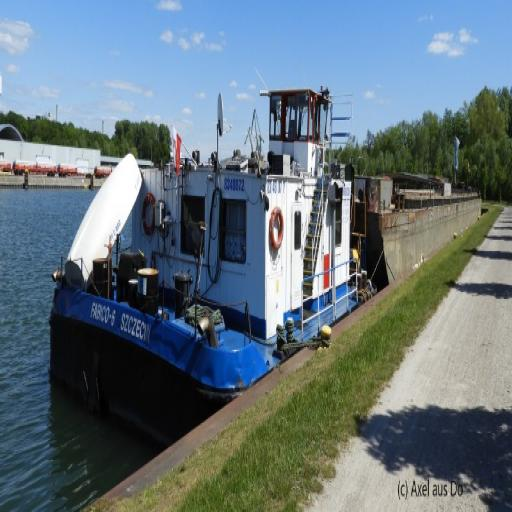tugboat: (47, 83, 381, 458)
